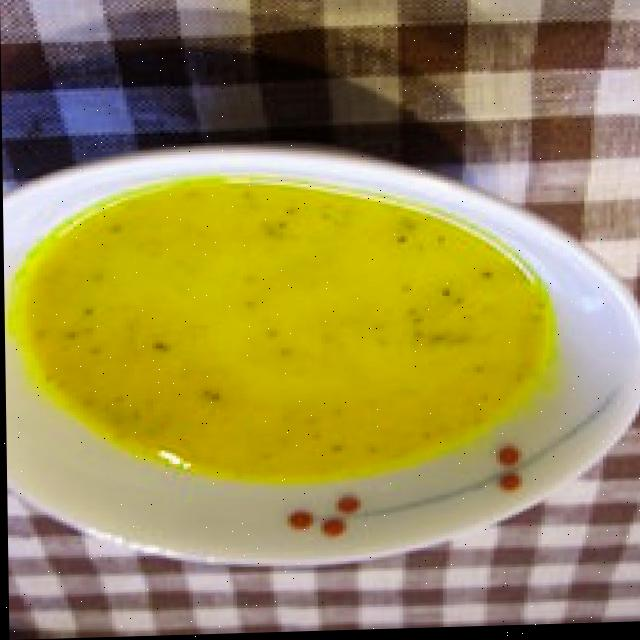汤锅炖物: (2, 162, 640, 566)
